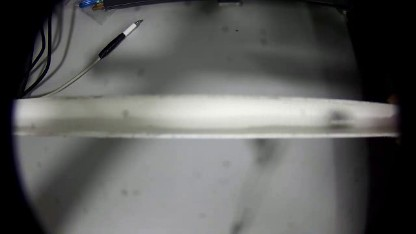gangzhu: (325, 108, 349, 133)
